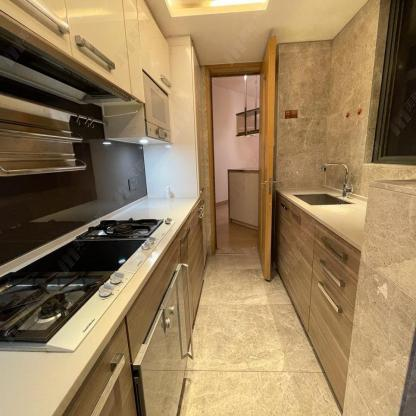Cupboard: (277, 194, 365, 411), (0, 0, 145, 103)
Exhaust Hood: (0, 9, 134, 103)
Faucet: (319, 159, 355, 199)
Oven: (131, 262, 194, 415), (105, 73, 170, 145)
Sink: (288, 189, 366, 209), (293, 189, 355, 205)
Stove: (0, 215, 187, 370), (0, 219, 170, 352)
